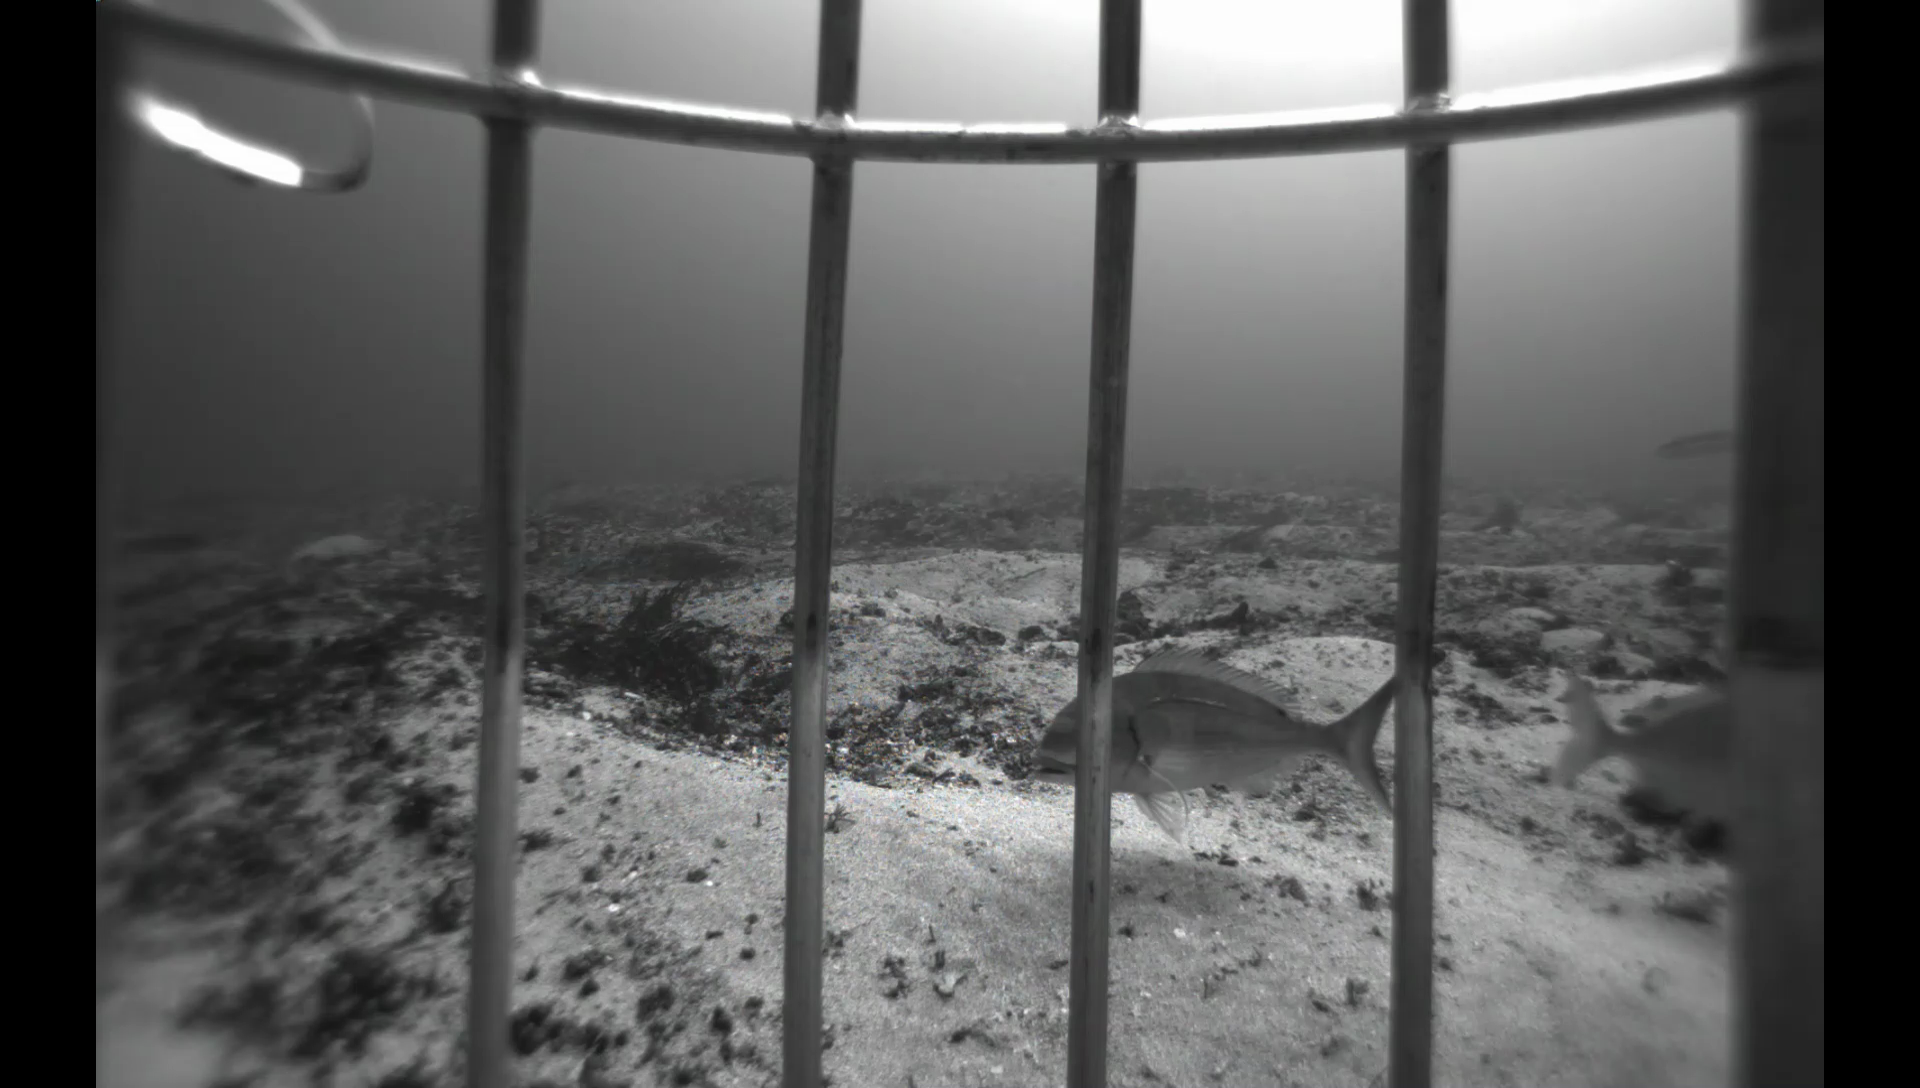CALAMUSNODOSUS-170210608: (1539, 654, 1731, 848)
MALACANTHUSPLUMIERI-170070301: (1647, 425, 1730, 464)
PAGRUSPAGRUS-170212302: (1035, 642, 1400, 860)
